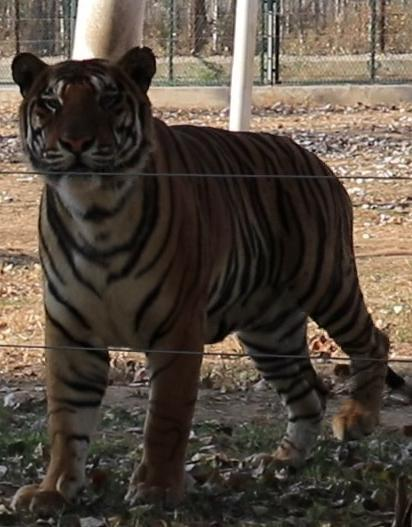tiger: (13, 48, 388, 509)
